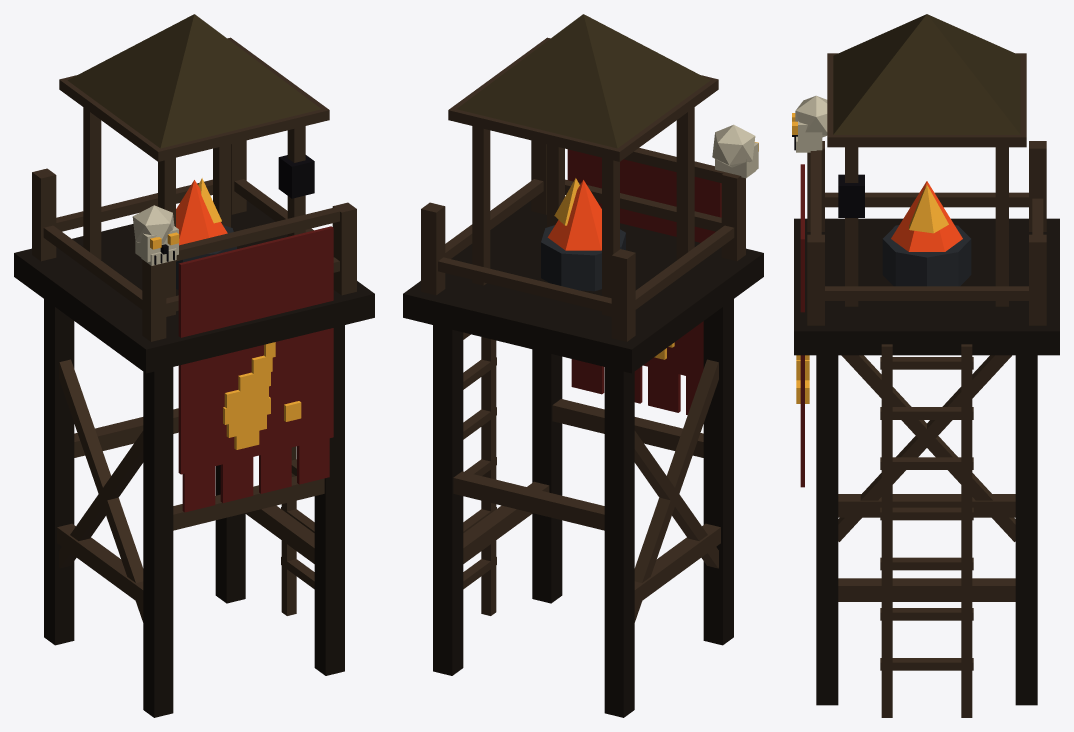
The model's file is watchtower.obj.
3 views of the same model, side by side, from view 1: azimuth 30°, elevation 25°; view 2: azimuth 150°, elevation 25°; view 3: azimuth 270°, elevation 25° (orthographic).
Parts seen in each view (by area): view 1: watchtower; view 2: watchtower; view 3: watchtower.
Boxes of the visible parts, left/top/right/bottom form: watchtower: left=14, top=14, right=374, bottom=717; watchtower: left=403, top=14, right=763, bottom=717; watchtower: left=792, top=14, right=1059, bottom=717.
Size of the model in its own units: 1.23 by 3.22 by 1.21.
